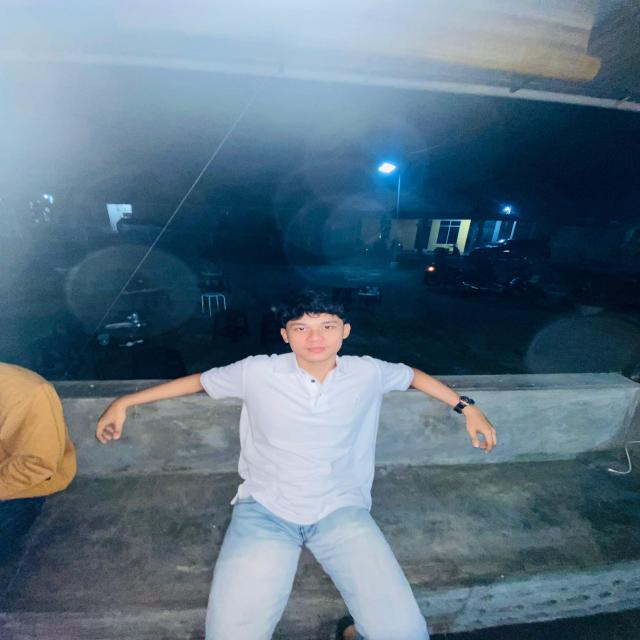nohelmet: (275, 299, 358, 361)
